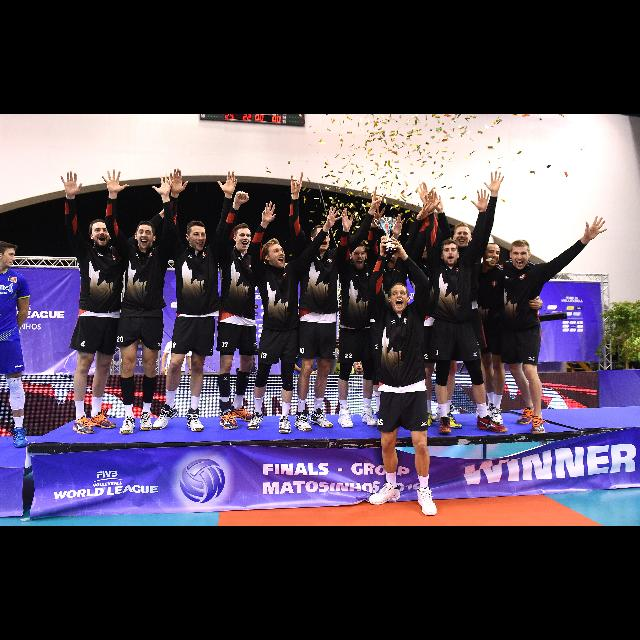head: (262, 243, 286, 269), (134, 222, 156, 250), (388, 284, 410, 312), (510, 240, 530, 270), (186, 224, 207, 252), (89, 221, 111, 247), (232, 223, 252, 250), (310, 225, 330, 252), (349, 242, 368, 270), (441, 240, 461, 266), (382, 244, 400, 270), (0, 241, 16, 269), (453, 225, 472, 247), (484, 243, 501, 267), (354, 361, 366, 374), (175, 326, 187, 338), (421, 244, 431, 258)
person: (59, 170, 180, 438), (288, 172, 388, 434), (492, 216, 608, 436), (151, 168, 239, 434), (246, 201, 344, 435), (415, 169, 505, 423), (365, 216, 439, 518), (422, 188, 510, 436), (102, 169, 176, 435), (210, 188, 290, 432), (363, 201, 439, 429), (337, 206, 407, 430), (461, 242, 545, 426), (408, 189, 464, 431), (1, 240, 36, 450), (160, 325, 196, 423), (342, 357, 372, 471)
